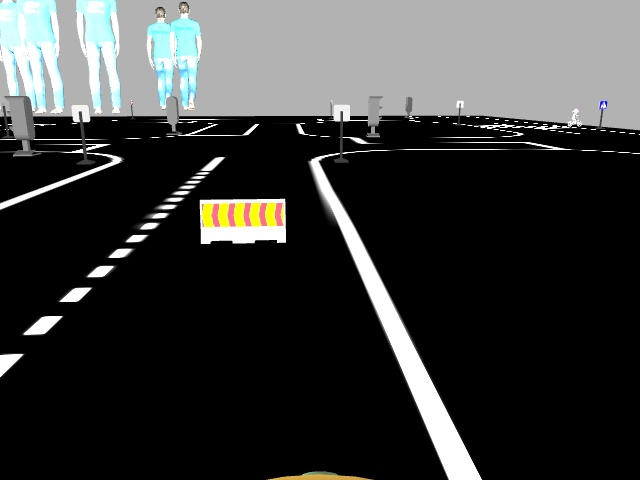ClosedRoadStand: (200, 201, 285, 241)
